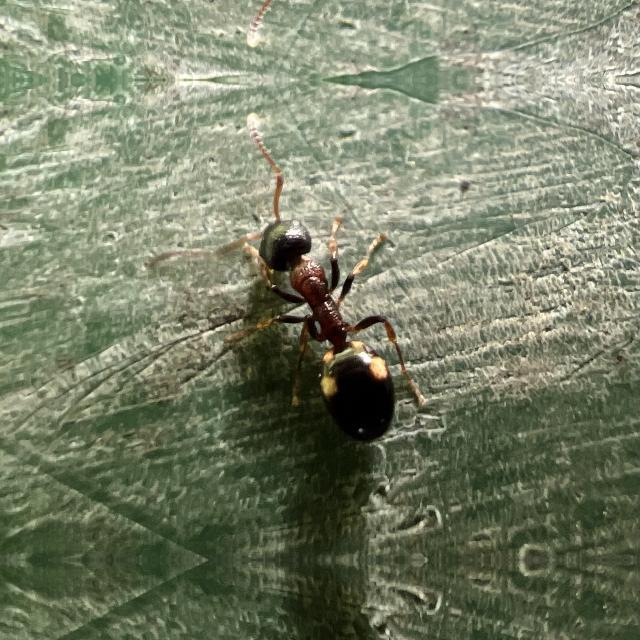Dolichoderus: (181, 164, 449, 462)
